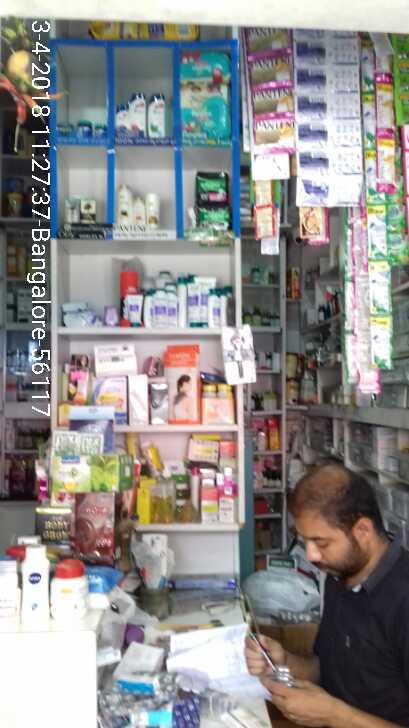vicks: (75, 119, 93, 139), (94, 122, 107, 136)
